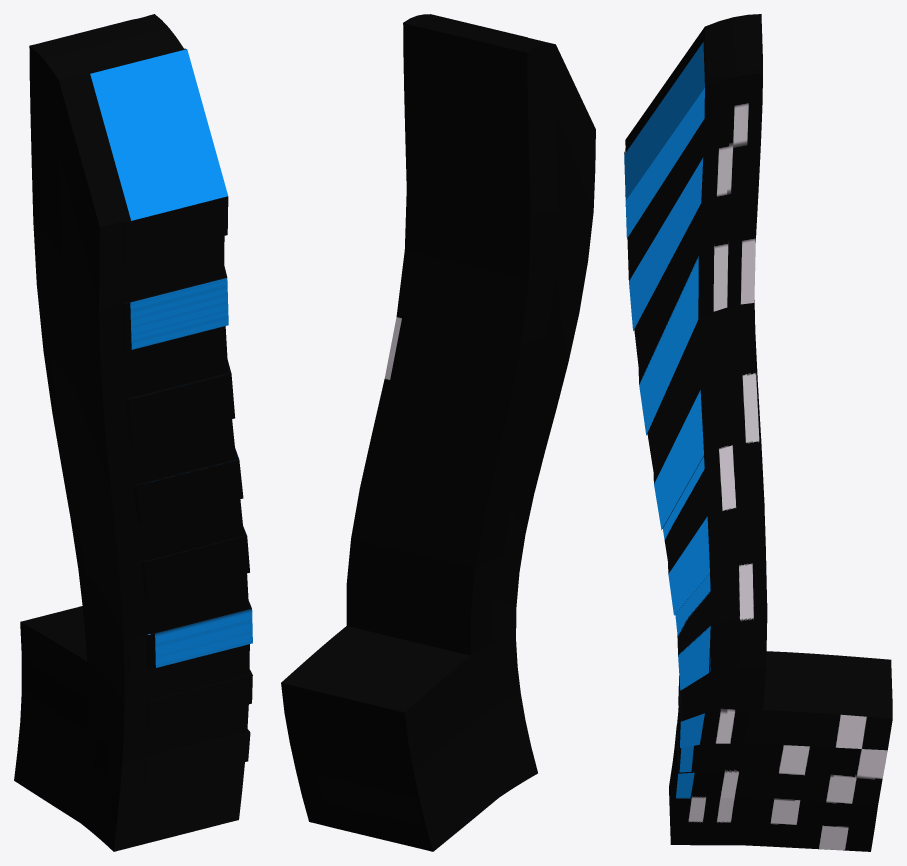
Rendered from futuristic building 3 .fbx.
3 renders of one model, left to right at view 1: azimuth 30°, elevation 25°; view 2: azimuth 150°, elevation 25°; view 3: azimuth 270°, elevation 25°, orthographic. The views are drawn at different scales.
Parts seen in each view (by area): view 1: Cube; view 2: Cube; view 3: Cube.
Part boxes in pixels (x1,y1,x2,y2): Cube: (14,14,252,851); Cube: (281,14,595,851); Cube: (624,14,892,851).
Size of the model in its own units: 6955 by 28414 by 9098.
